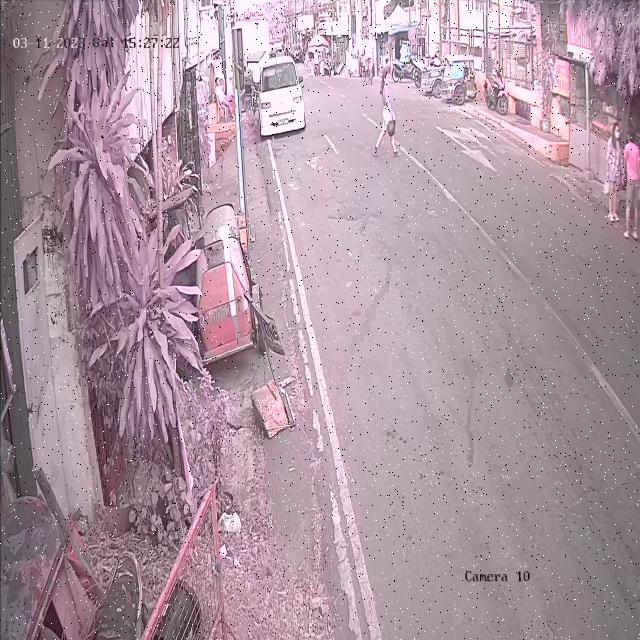garbage_dumping: (386, 115, 397, 135)
